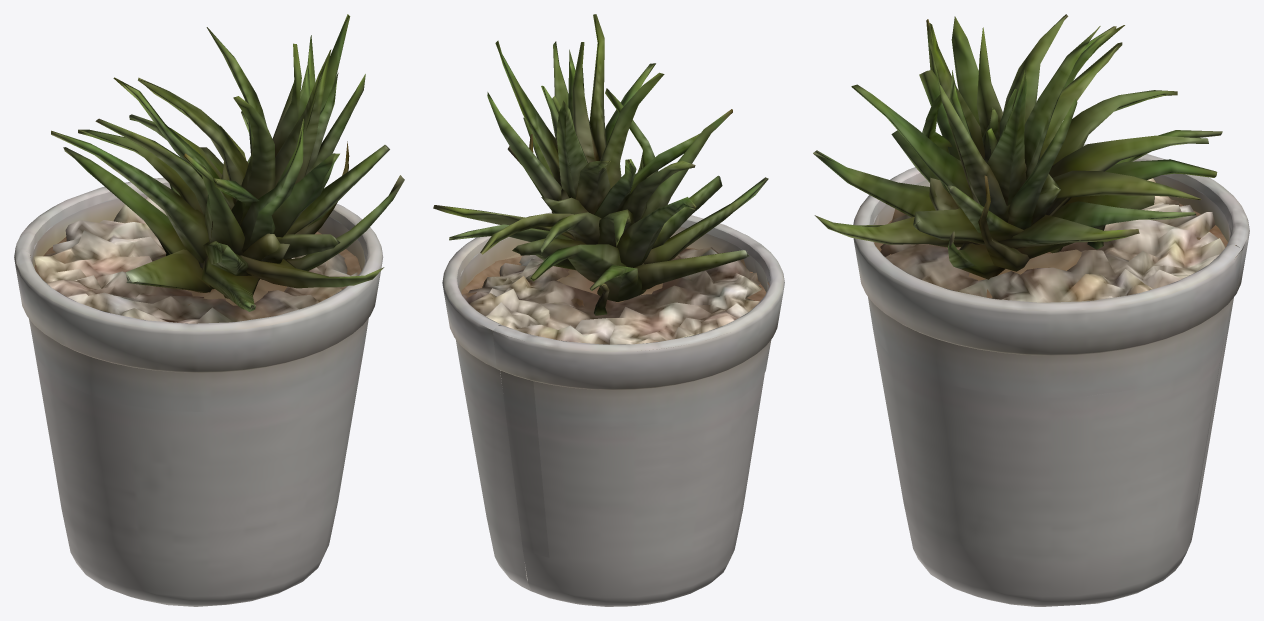
File: potted_plant_04.glb
3 views of the same model, side by side, from view 1: azimuth 30°, elevation 25°; view 2: azimuth 150°, elevation 25°; view 3: azimuth 270°, elevation 25° (orthographic). The views are drawn at different scales.
Visible parts, largest first — view 1: c03_ceramic, c02_leaves, c00_soil, c01_soil; view 2: c03_ceramic, c02_leaves, c00_soil, c01_soil; view 3: c03_ceramic, c02_leaves, c00_soil, c01_soil.
Part boxes in pixels (left/top/right/bottom): c03_ceramic: left=14, top=177, right=383, bottom=606; c02_leaves: left=51, top=14, right=404, bottom=311; c00_soil: left=34, top=196, right=357, bottom=323; c01_soil: left=30, top=231, right=361, bottom=305; c03_ceramic: left=442, top=212, right=784, bottom=606; c02_leaves: left=433, top=14, right=768, bottom=315; c00_soil: left=462, top=247, right=762, bottom=344; c01_soil: left=461, top=247, right=769, bottom=306; c03_ceramic: left=853, top=144, right=1249, bottom=606; c02_leaves: left=813, top=14, right=1222, bottom=279; c00_soil: left=880, top=178, right=1225, bottom=302; c01_soil: left=874, top=203, right=1236, bottom=298.
Bounding box in the file's own units: 0.168 × 0.2673 × 0.1846.
1 material, 1 textured.
